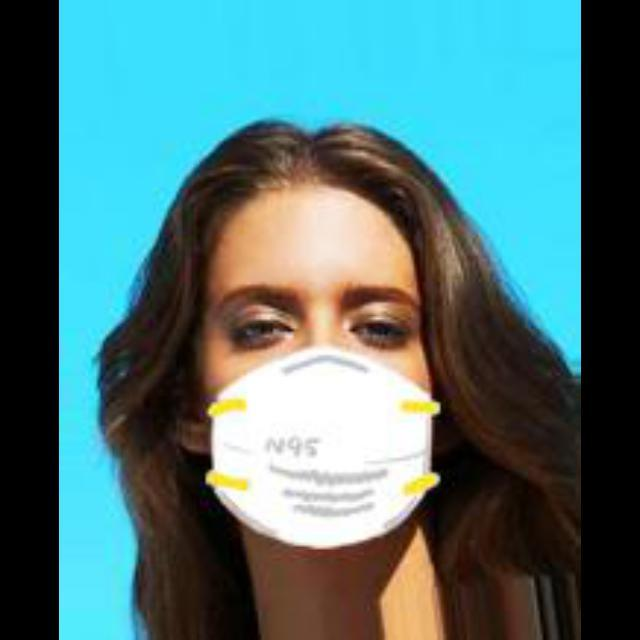suspicion: (105, 93, 527, 595)
